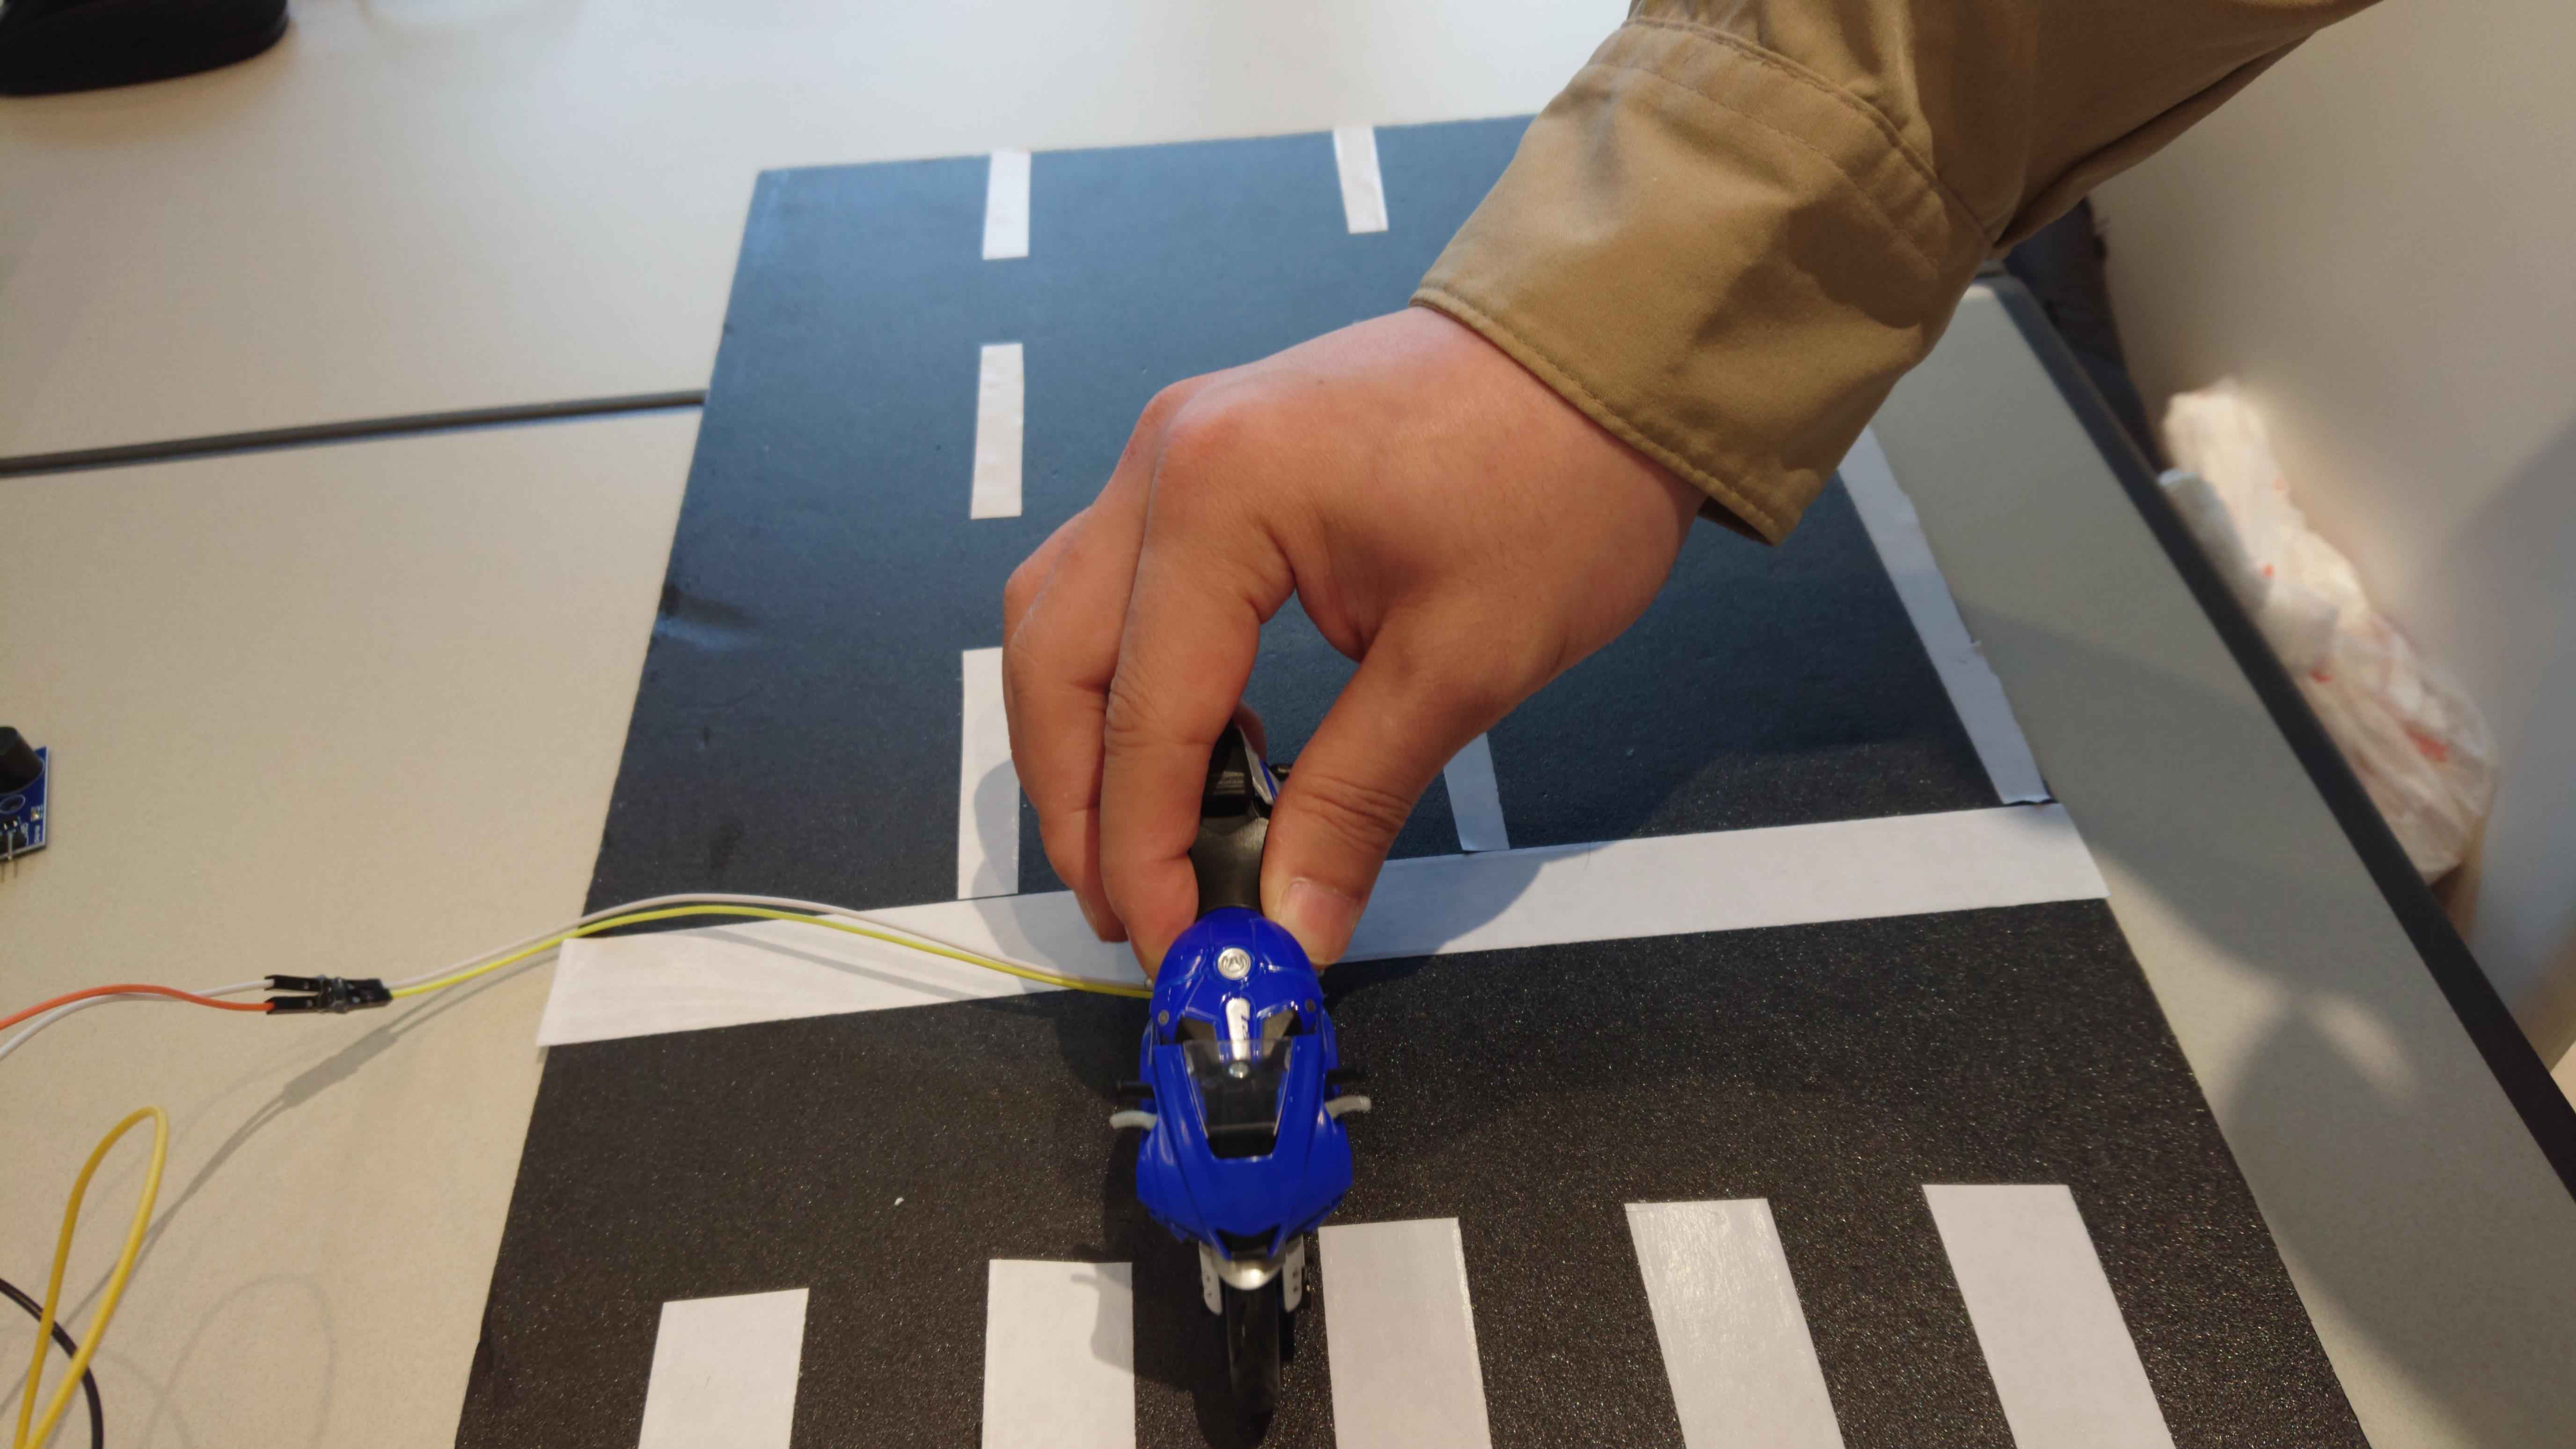Motorcycle: (1081, 676, 1369, 1430)
